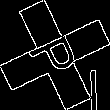P_NE: (25, 28, 85, 82)
